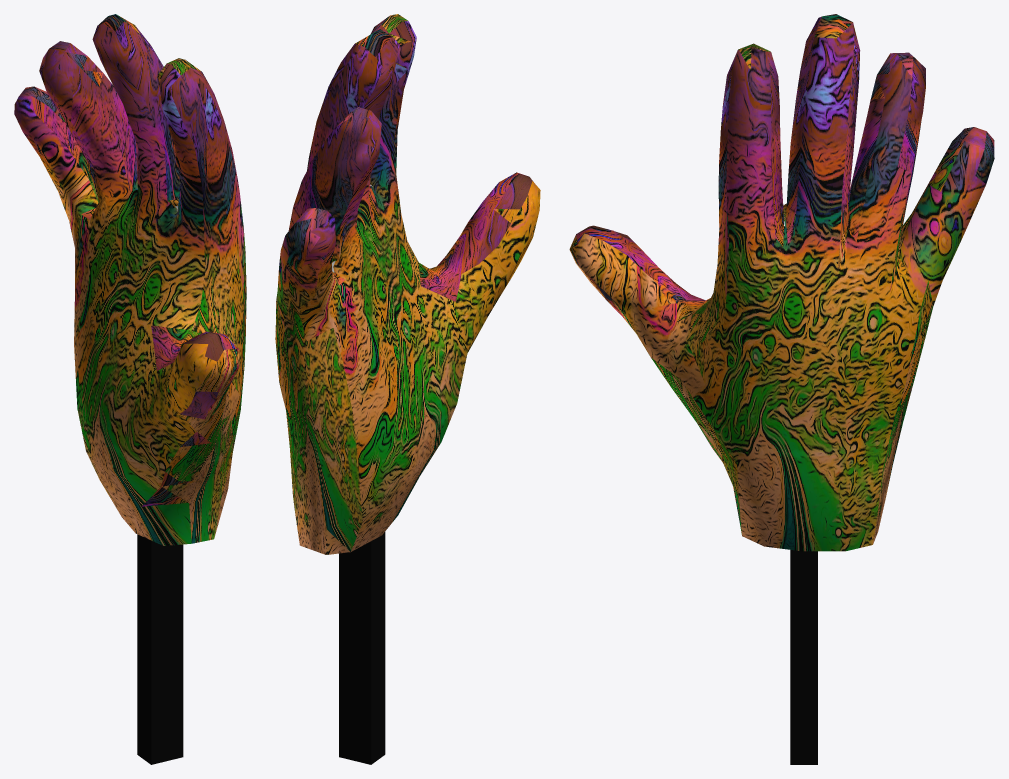
The model's file is Slap_3.obj.
3 renders of one model, left to right at view 1: azimuth 30°, elevation 25°; view 2: azimuth 150°, elevation 25°; view 3: azimuth 270°, elevation 25°, orthographic.
Visible parts, largest first — view 1: Handle4, Handle2, Stick1, Handle5, Handle3, Handle7; view 2: Handle4, Handle6, Stick1, Handle5, Handle3; view 3: Handle3, Handle2, Handle6, Stick1, Handle5.
Boxes of the visible parts, bbox=[...] form: Handle4: bbox=[14, 24, 217, 545]; Handle2: bbox=[30, 21, 244, 543]; Stick1: bbox=[137, 534, 183, 764]; Handle5: bbox=[19, 14, 237, 370]; Handle3: bbox=[135, 25, 246, 537]; Handle7: bbox=[142, 378, 233, 506]; Handle4: bbox=[299, 21, 540, 554]; Handle6: bbox=[276, 25, 519, 554]; Stick1: bbox=[339, 532, 385, 764]; Handle5: bbox=[296, 14, 533, 301]; Handle3: bbox=[275, 16, 445, 515]; Handle3: bbox=[572, 22, 985, 551]; Handle2: bbox=[569, 16, 936, 534]; Handle6: bbox=[767, 24, 994, 543]; Stick1: bbox=[790, 550, 817, 764]; Handle5: bbox=[576, 14, 986, 321].
Bounding box in the file's own units: 0.9559 × 4.72 × 2.49.
3 materials, 1 textured.
